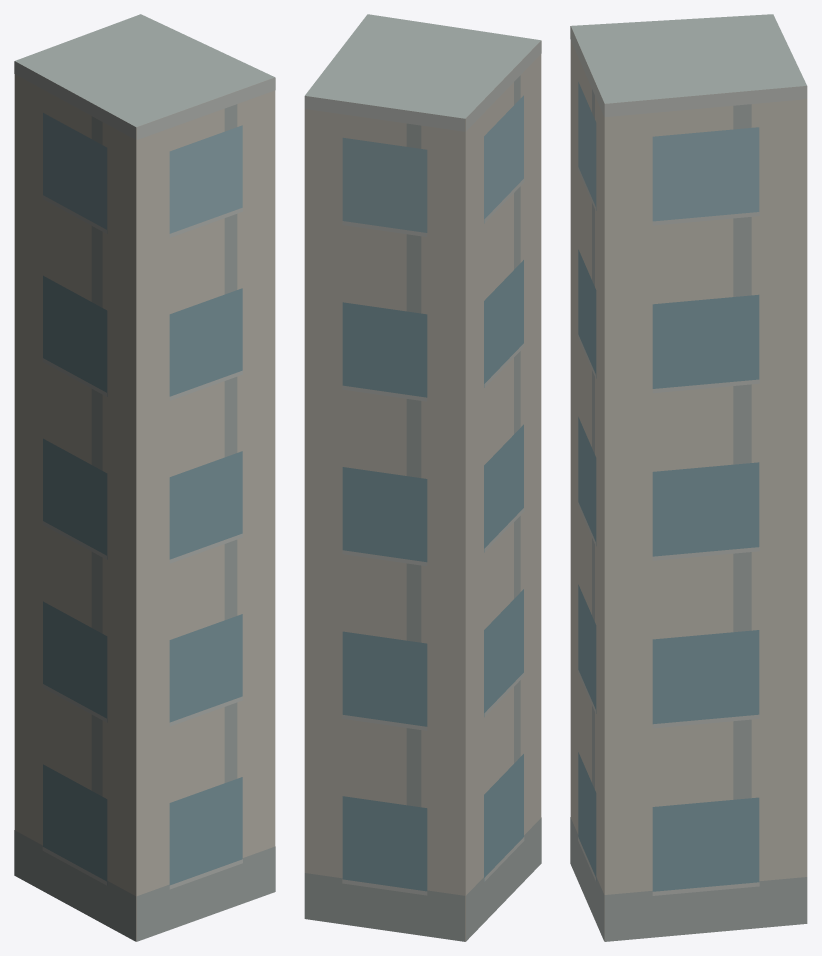
File: survey-upis-32945937.glb
The picture shows the model from 3 angles, left to right: view 1: azimuth 30°, elevation 25°; view 2: azimuth 150°, elevation 25°; view 3: azimuth 270°, elevation 25°; orthographic projection. The views are drawn at different scales.
Parts seen in each view (by area): view 1: survey-upis-32945937.tmp; view 2: survey-upis-32945937.tmp; view 3: survey-upis-32945937.tmp.
Part boxes in pixels (left/top/right/bottom): survey-upis-32945937.tmp: left=14, top=14, right=275, bottom=941; survey-upis-32945937.tmp: left=304, top=14, right=541, bottom=941; survey-upis-32945937.tmp: left=570, top=14, right=807, bottom=941.
Bounding box in the file's own units: 3.52 × 15.25 × 3.91.
